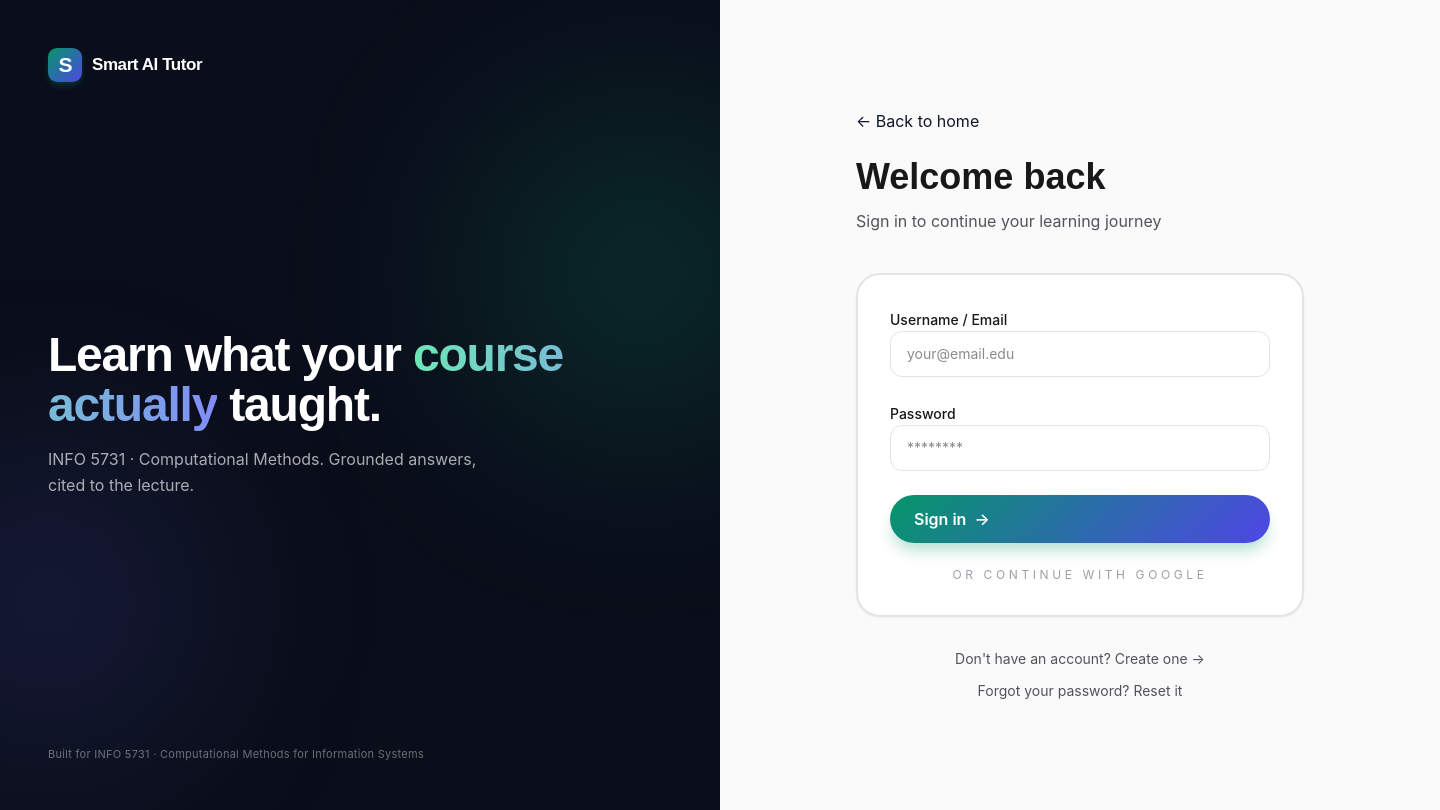
Test: LoginPage › shows email verification prompt when backend reports unverified email
The width and height of the screenshot is (1440, 810).
In the field labelled "Username / Email": (1080, 354) [890, 331, 1270, 377], type "unverified"
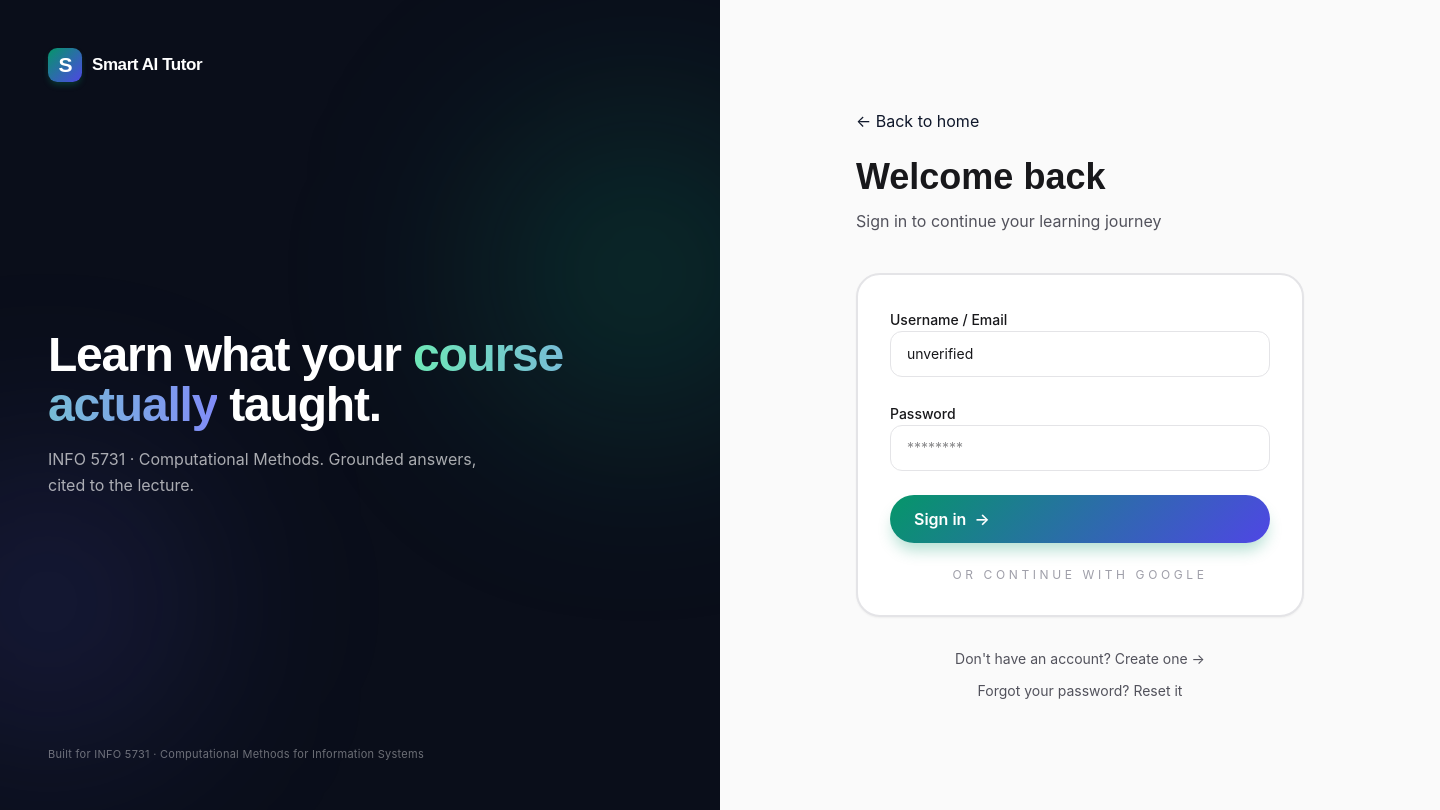
In the password field labelled "Password": (1080, 448) [890, 425, 1270, 471], type "somepass"
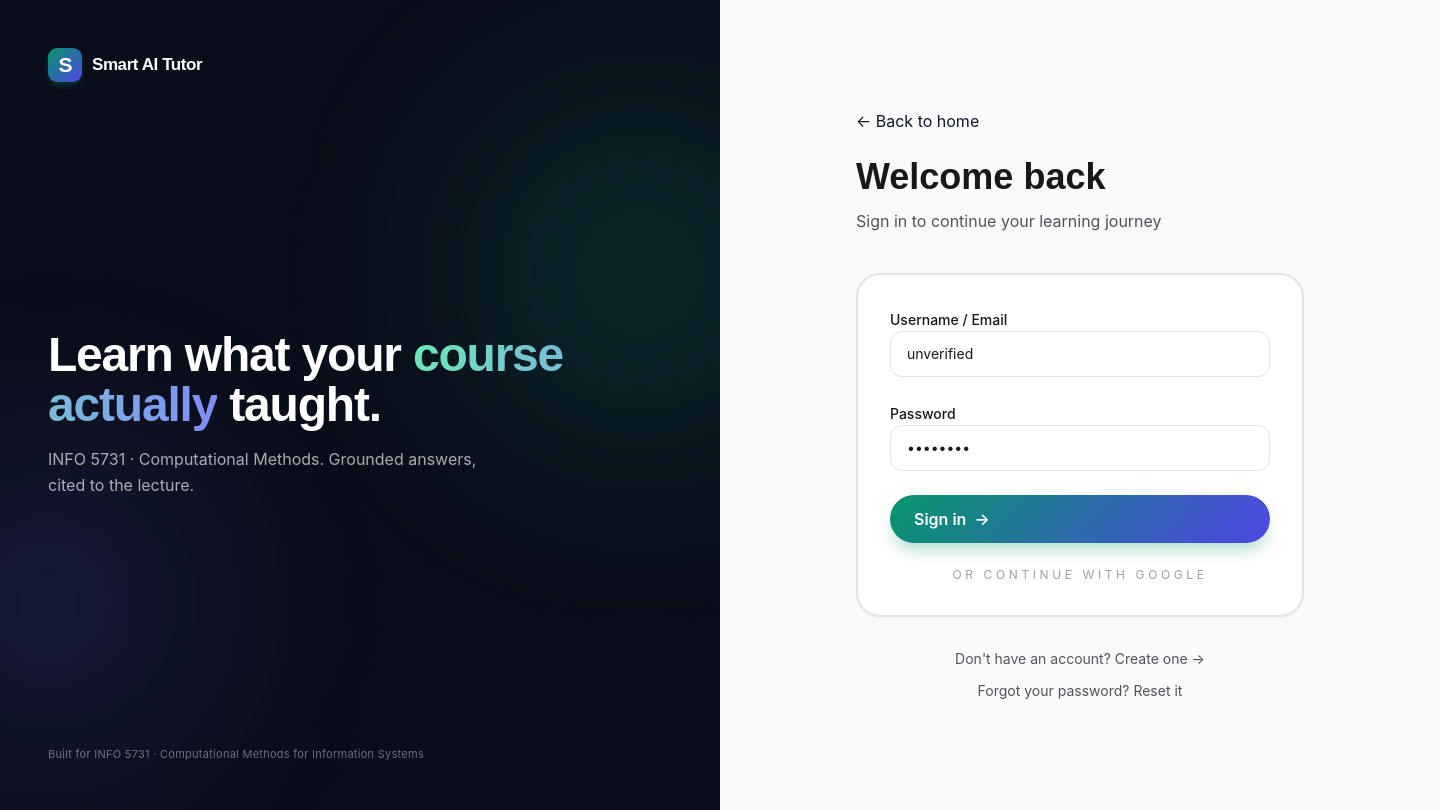
Submit the form, box [856, 273, 1304, 617]
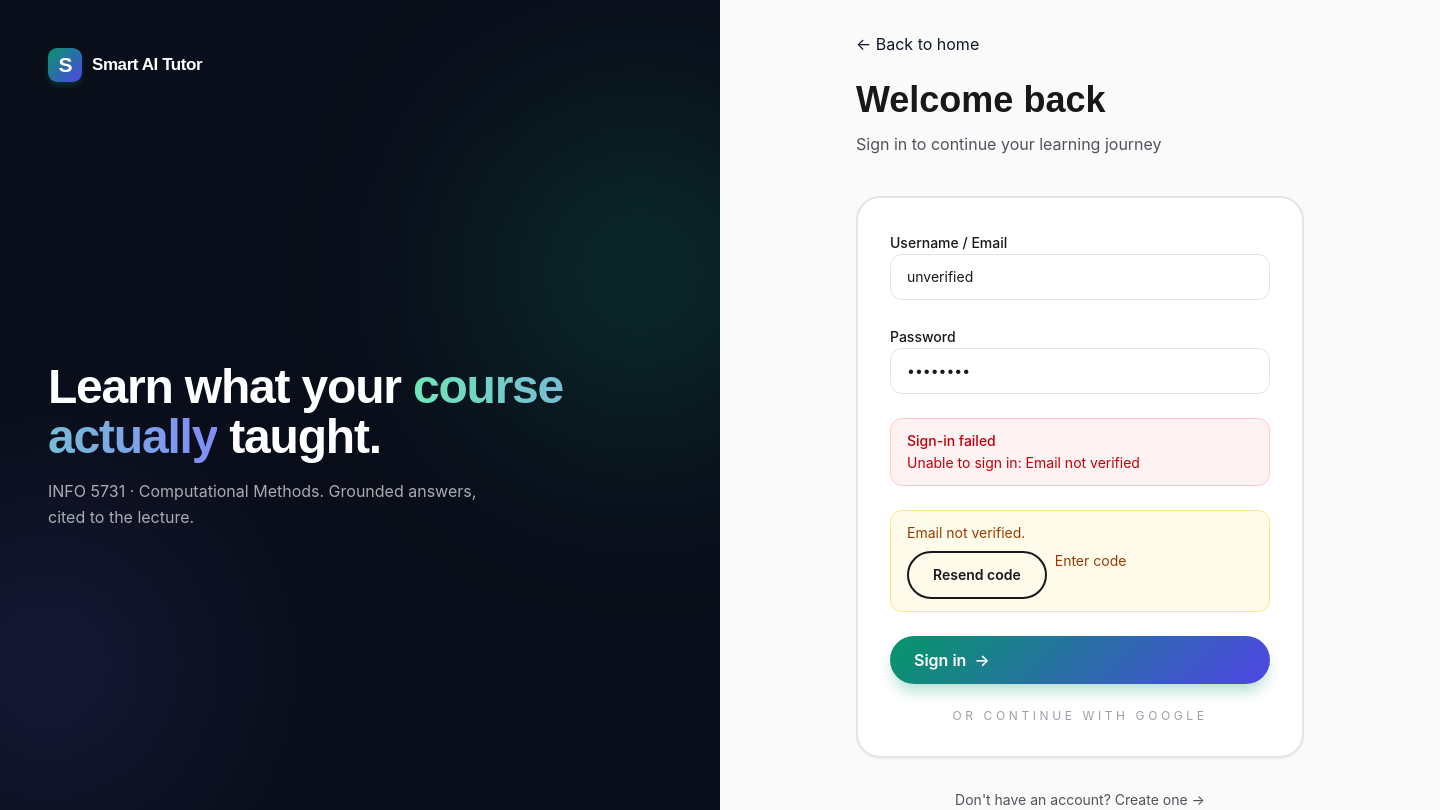
Now the button "Resend code" is shown, box [907, 551, 1047, 599]
